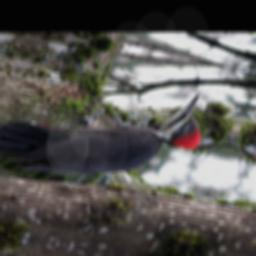Woodpecker: (0, 61, 222, 202)
